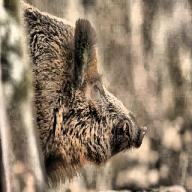boar: (19, 0, 147, 188)
